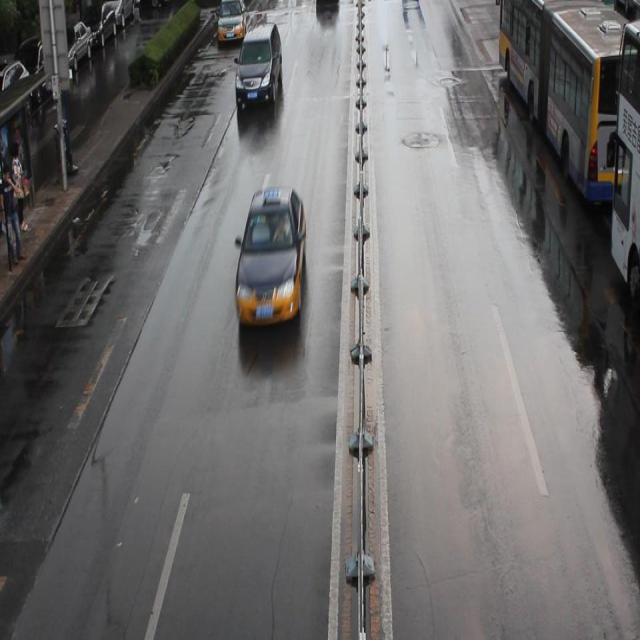car: (235, 185, 306, 326), (217, 1, 246, 45), (316, 1, 338, 12)
truck: (235, 21, 282, 110)
van: (497, 1, 640, 202), (608, 19, 640, 305)
